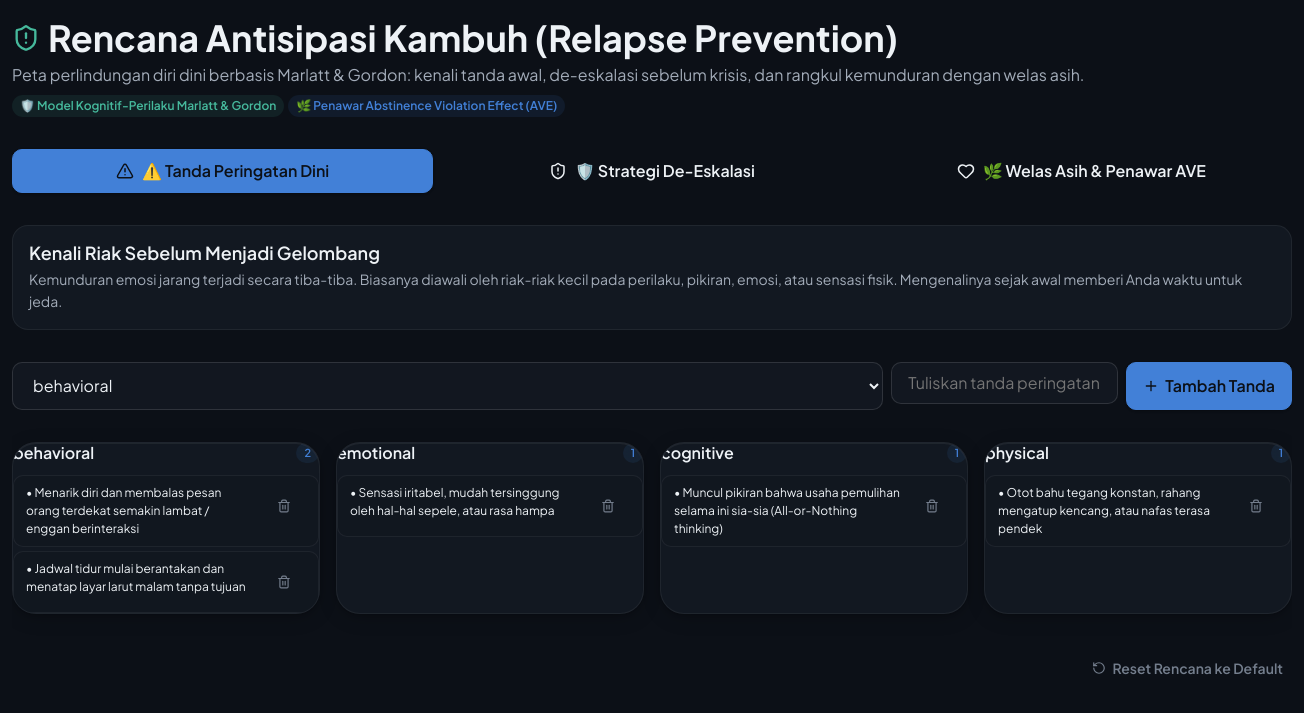
Test: RelapsePrevention Page › displays early warning signs by categories and allows adding a new custom warning sign
Expected: the heading "Kenali Riak Sebelum Menjadi Gelombang" is shown, x1=29 y1=241 x2=380 y2=264
Step 1. Type "Mulai enggan mandi dan melewatkan makan" into the field with placeholder "Tuliskan tanda peringatan dini baru..." → (1005, 383), box x1=891 y1=362 x2=1118 y2=404
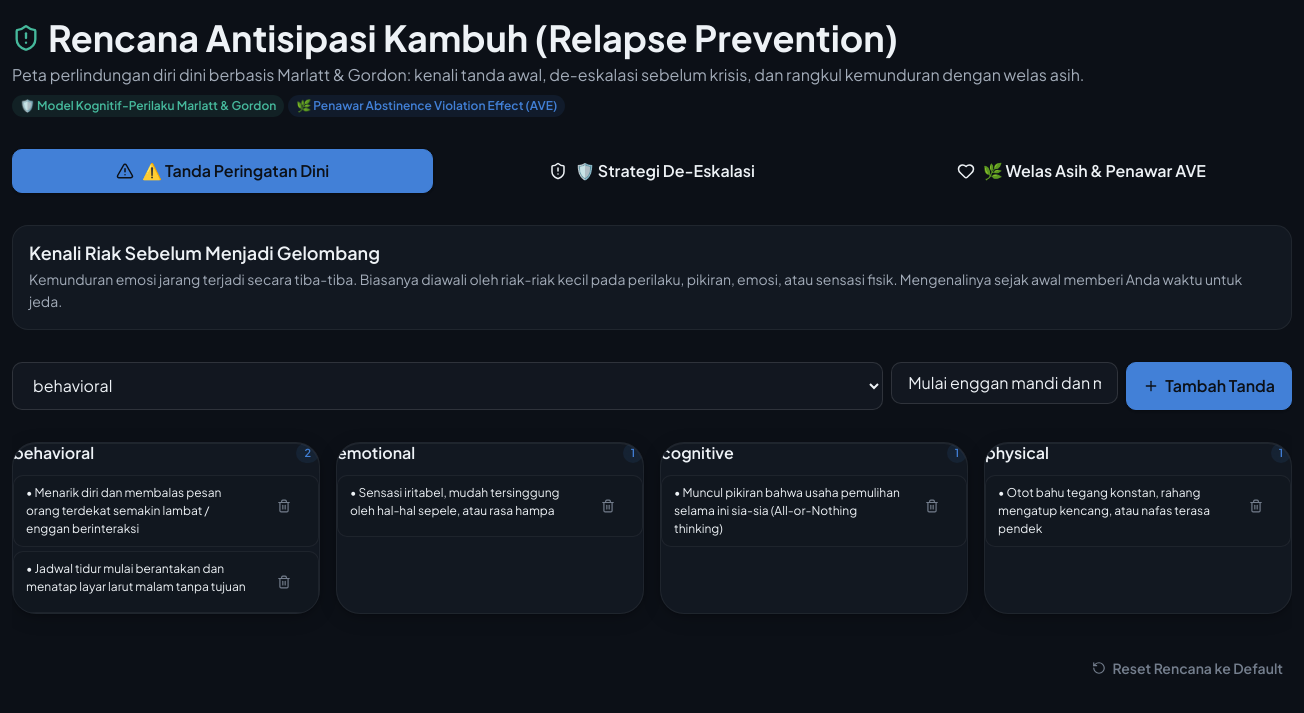
Step 2. Click the button "Tambah Tanda" → (1209, 386), box x1=1126 y1=362 x2=1292 y2=410
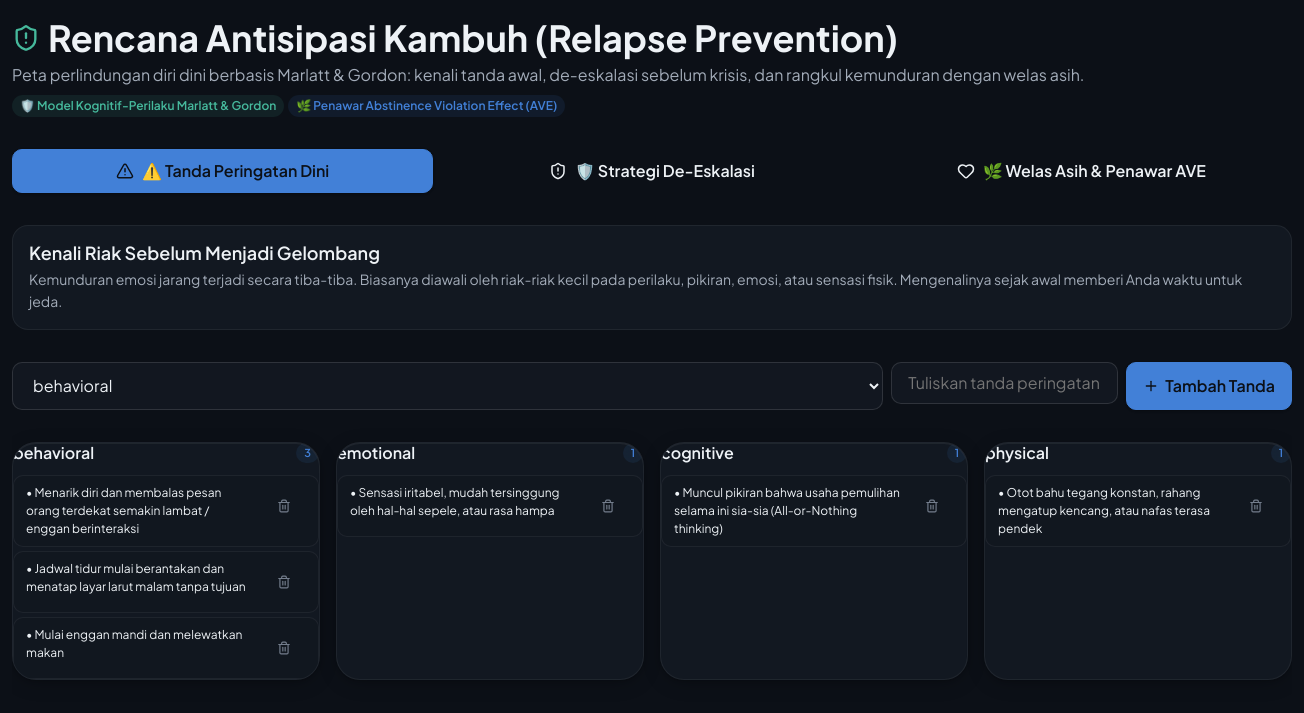
Now the text "• Mulai enggan mandi dan melewatkan makan" is shown, box x1=26 y1=626 x2=254 y2=662
